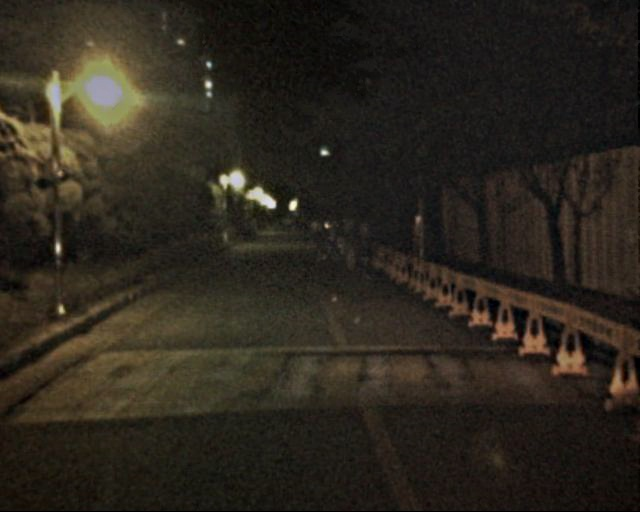person: (352, 221, 377, 282), (337, 218, 359, 272), (310, 220, 329, 266), (323, 220, 340, 261)
